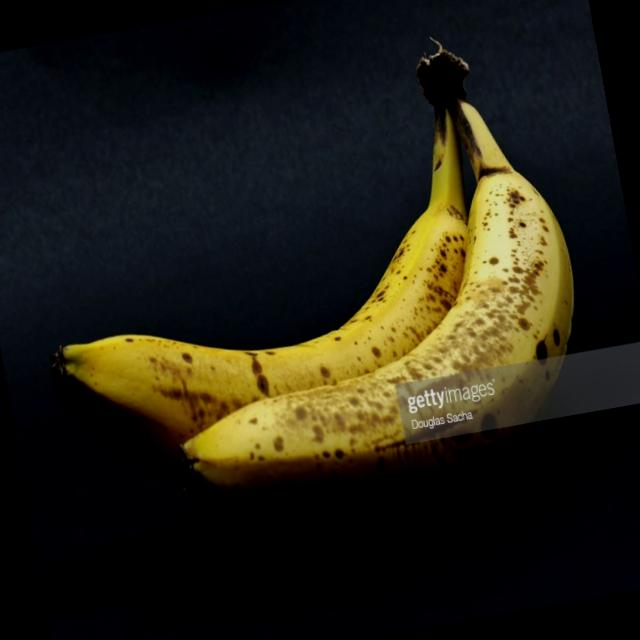banana: (0, 9, 619, 590)
